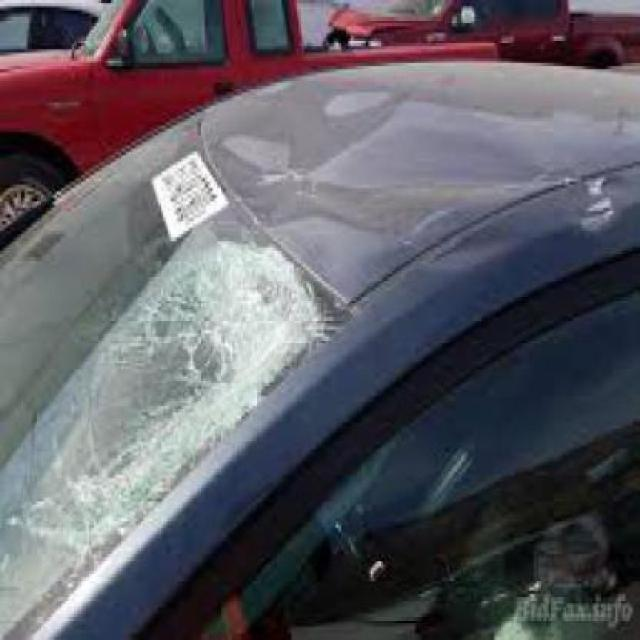Front-Windscreen-Damage: (1, 232, 331, 614)
roof-dent: (203, 98, 552, 284)
